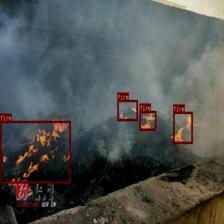fire: (0, 120, 70, 183), (173, 112, 192, 144), (117, 100, 137, 120), (139, 111, 156, 130)
